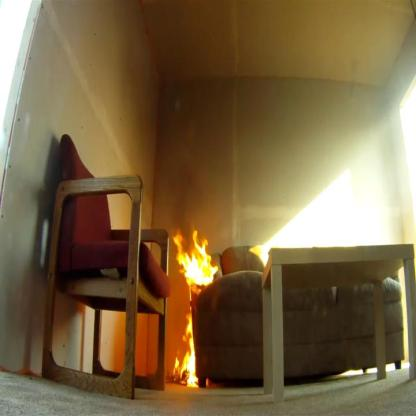fire: (171, 229, 219, 290), (171, 312, 201, 392)
